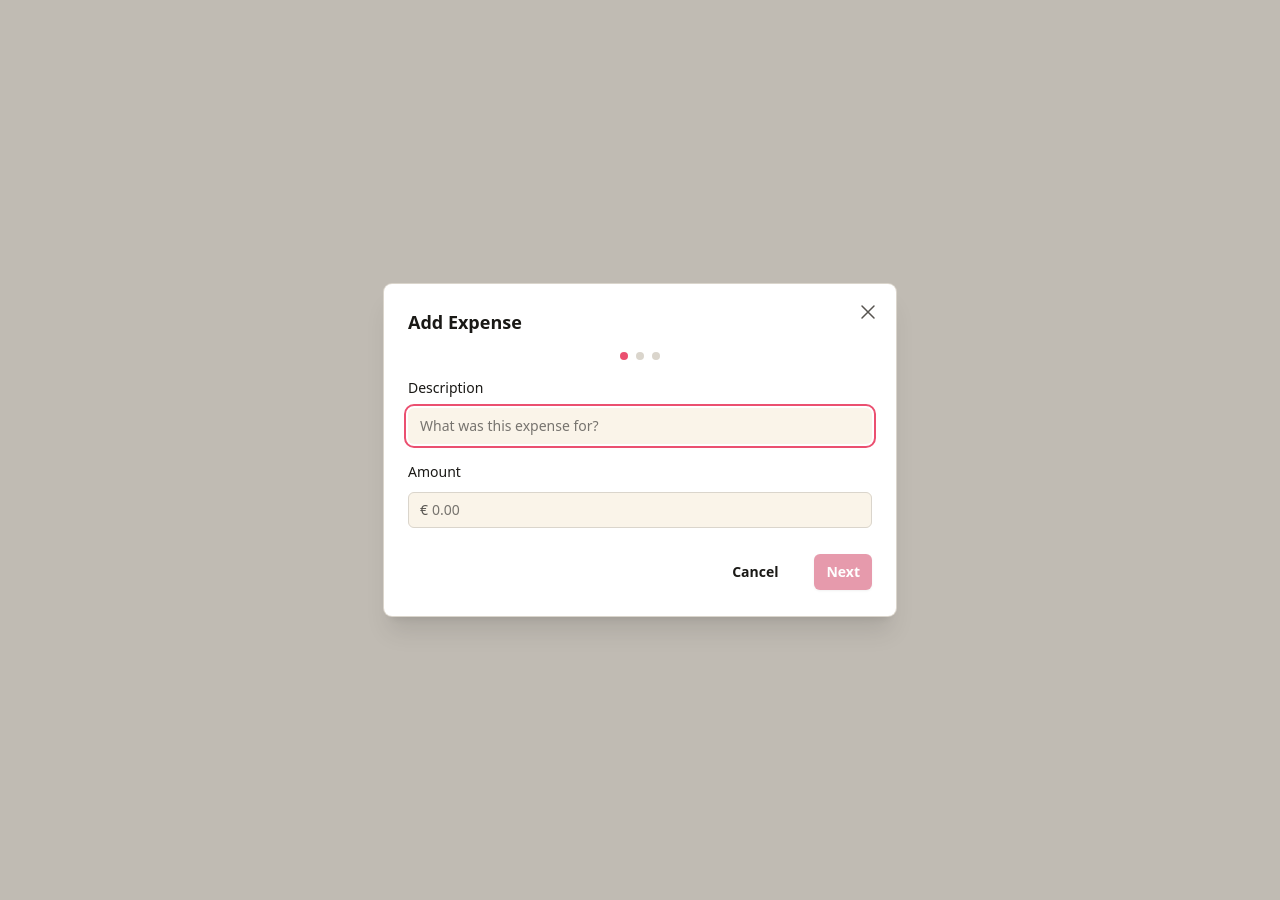
Test case: AddExpenseModal wizard › navigates to step 3 and shows people toggle
Step 1 → 2
Type "Test" into the field with test id "expense-description-input" at (640,426), box 408,408 -> 872,444
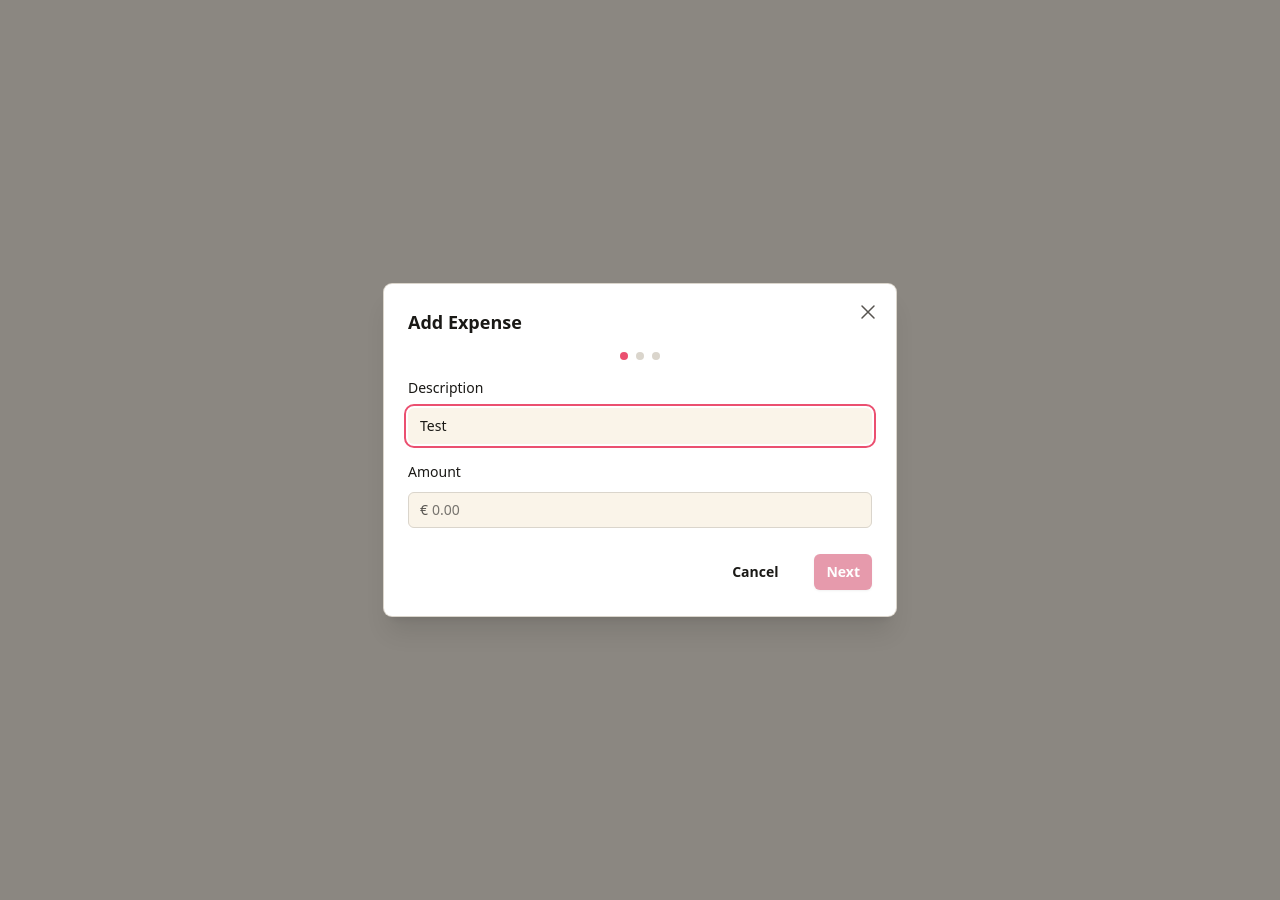
Type "10" into the field with test id "expense-amount-input" at (650,510), box 428,492 -> 872,528
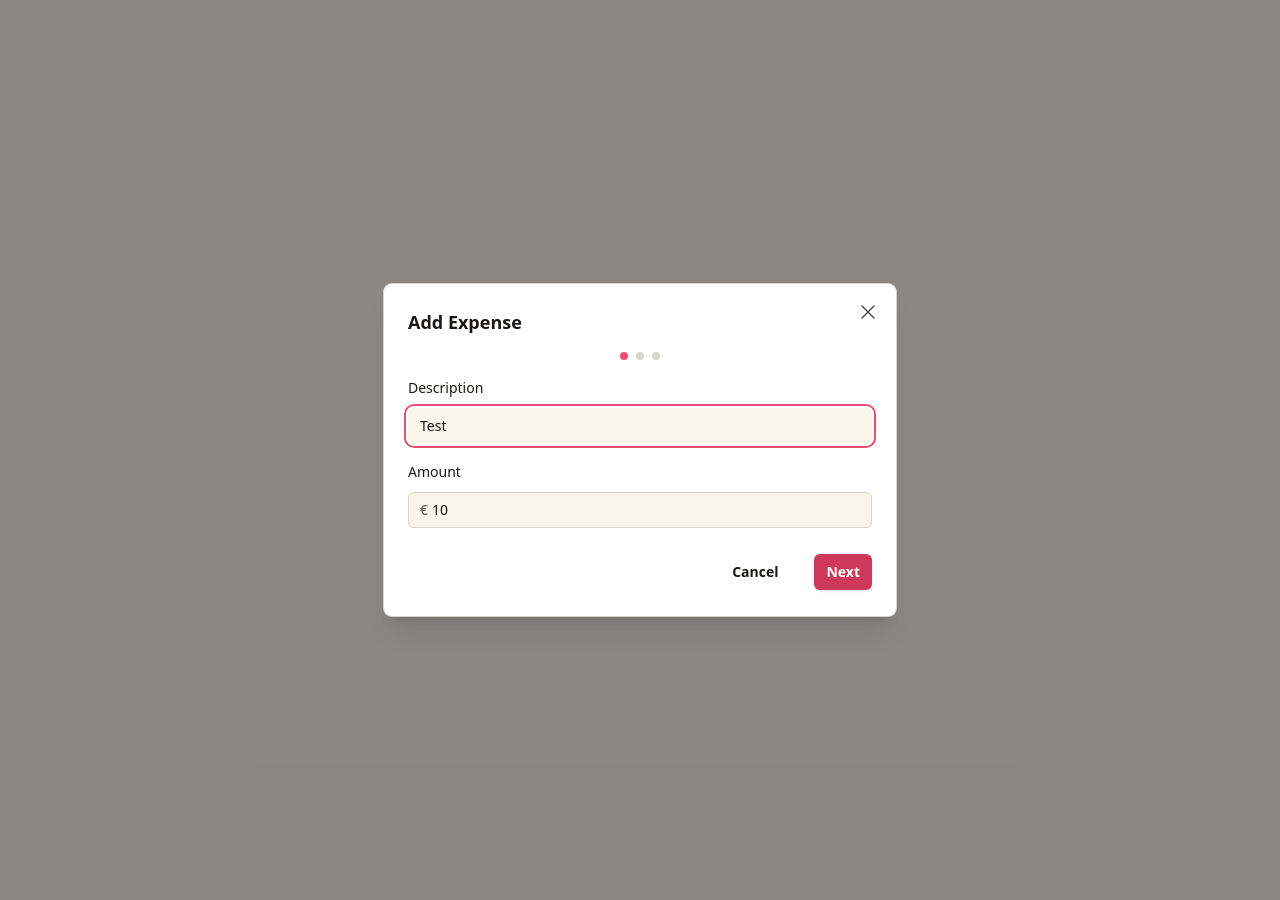
Submit the form, box 408,352 -> 872,592
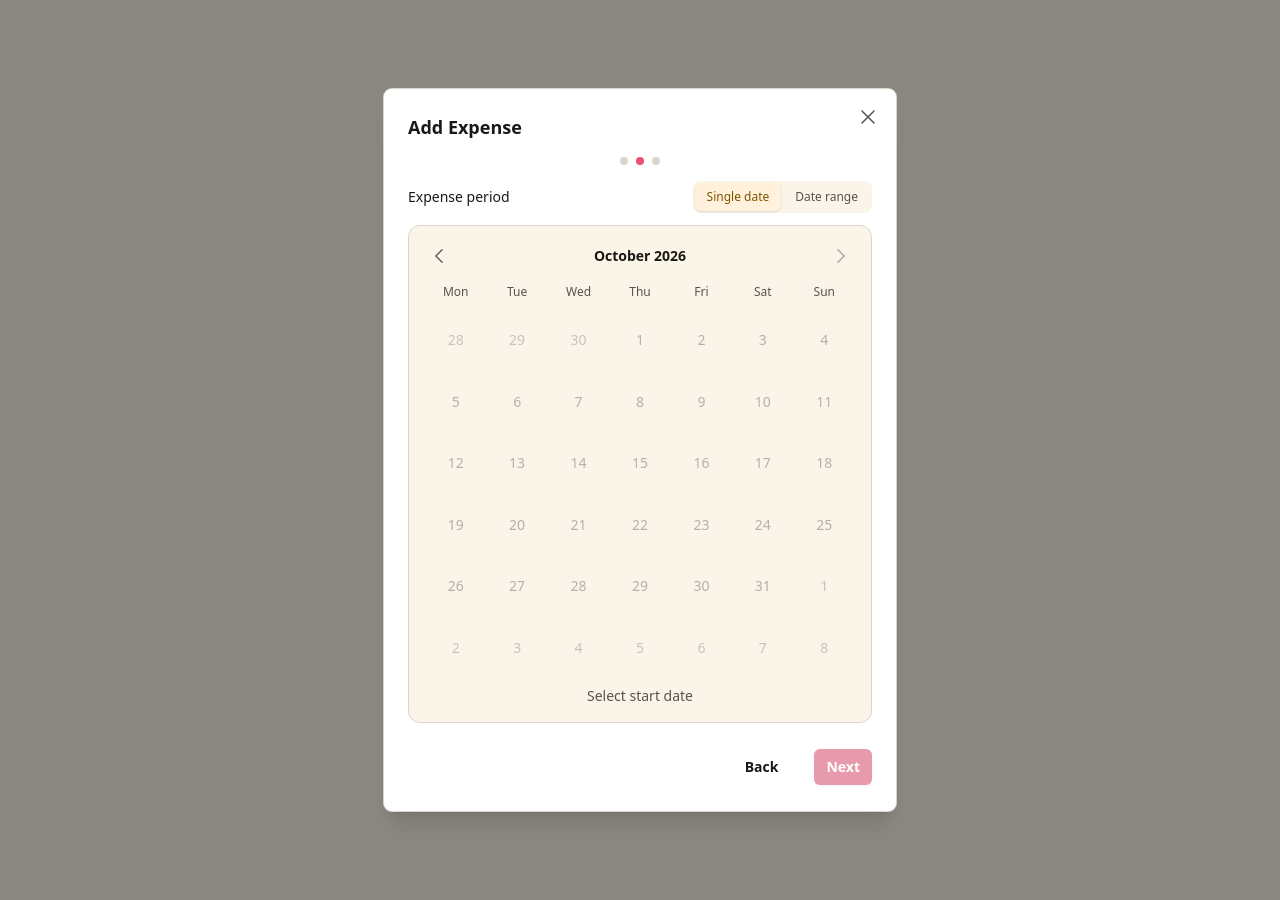
Step 2 → 3
Submit the form, box 408,157 -> 872,787
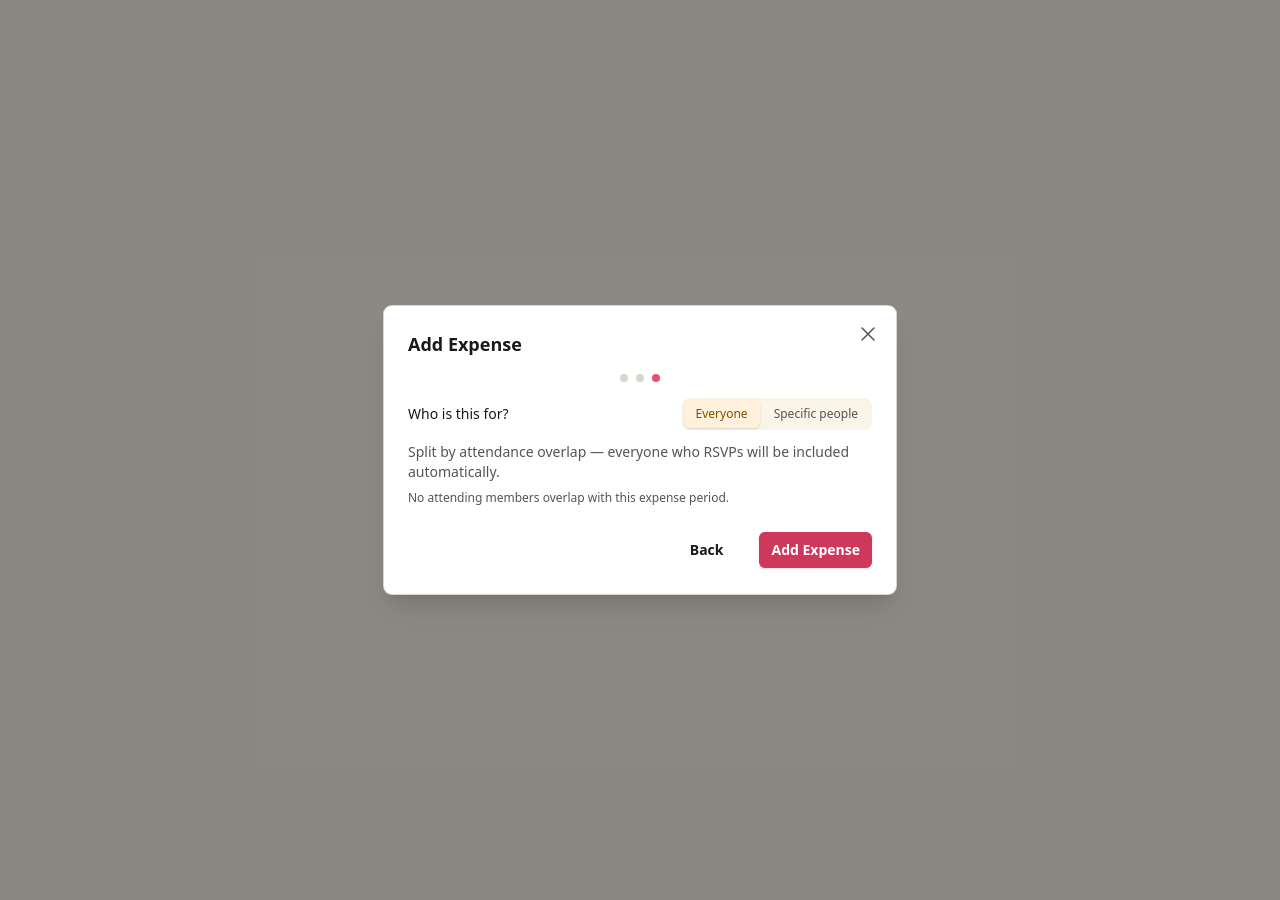
Check: the button with test id "toggle-people-mode" is shown, box 682,398 -> 872,430
